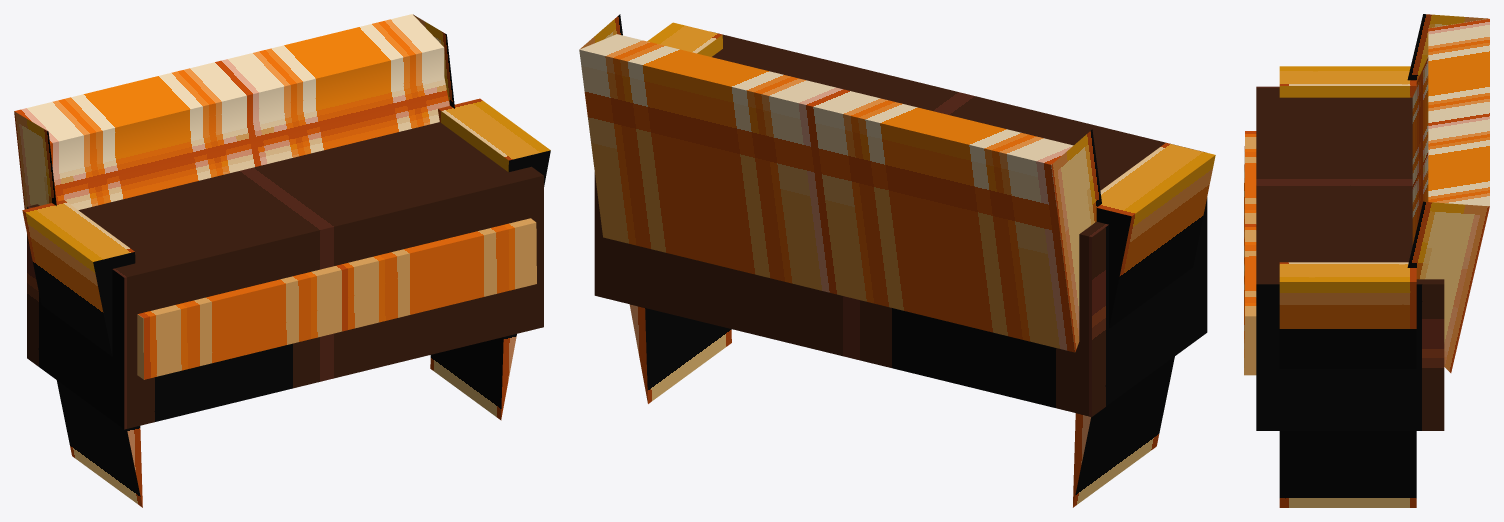
The picture shows the model from 3 angles, left to right: view 1: azimuth 30°, elevation 25°; view 2: azimuth 150°, elevation 25°; view 3: azimuth 270°, elevation 25°; orthographic projection. The views are drawn at different scales.
Visible parts, largest first — view 1: 3902kg3_gs04; view 2: 3902kg3_gs04; view 3: 3902kg3_gs04.
Part boxes in pixels (x1,y1,x2,y2): 3902kg3_gs04: [14, 14, 550, 507]; 3902kg3_gs04: [579, 14, 1215, 507]; 3902kg3_gs04: [1244, 14, 1489, 507].
Bounding box in the file's own units: 1.88 × 1.28 × 0.9045.
3 materials, 3 textured.
